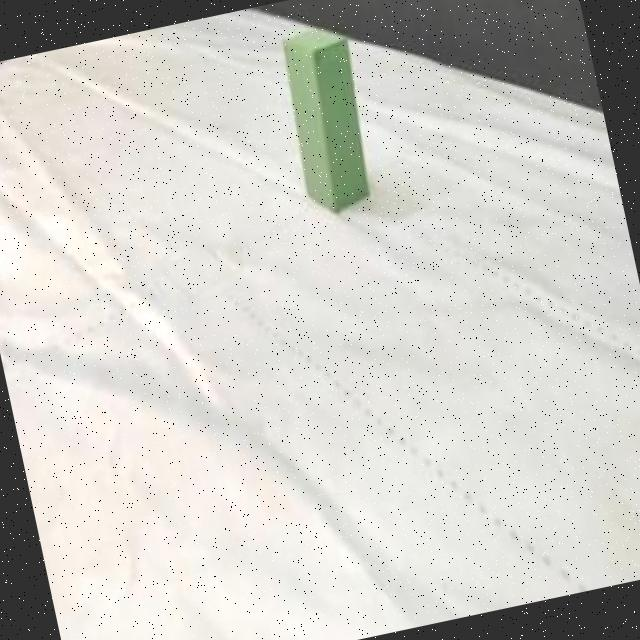greenbox: (269, 18, 382, 218)
